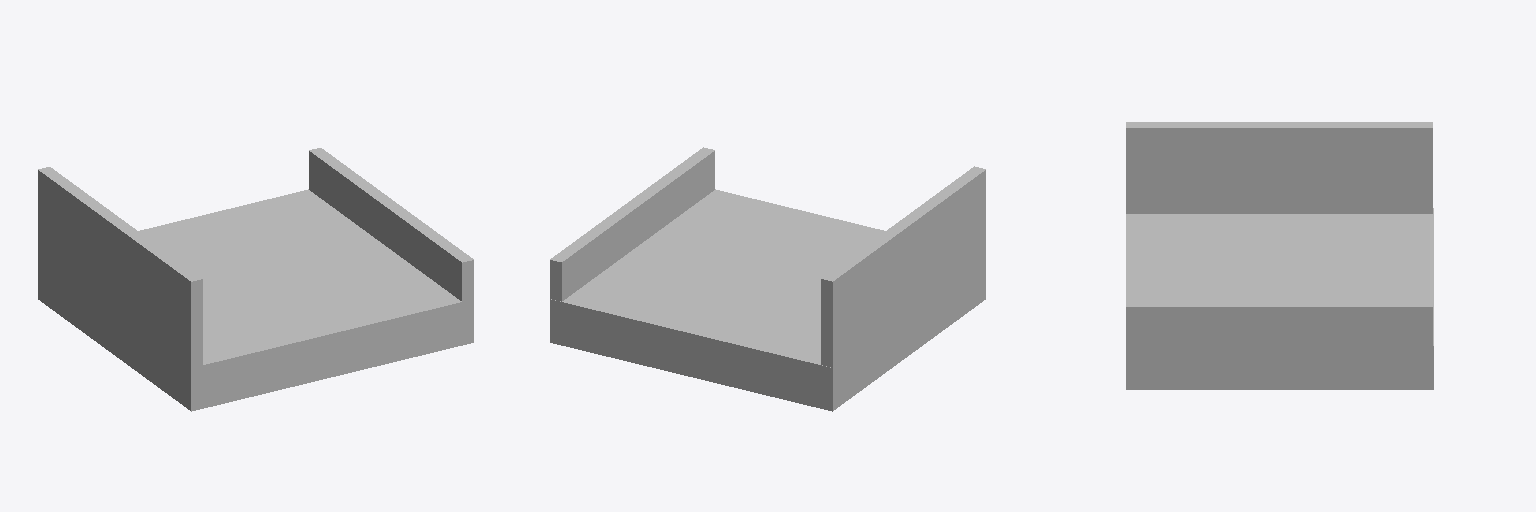
File: Double Bed LOD1.obj
3 views of the same model, side by side, from view 1: azimuth 30°, elevation 25°; view 2: azimuth 150°, elevation 25°; view 3: azimuth 270°, elevation 25° (orthographic).
Visible parts, largest first — view 1: Base.001_Cube.033, Back_Board.003_Cube.034, Front_Board.003_Cube.032; view 2: Base.001_Cube.033, Back_Board.003_Cube.034, Front_Board.003_Cube.032; view 3: Base.001_Cube.033, Back_Board.003_Cube.034, Front_Board.003_Cube.032.
Boxes of the visible parts, x1,y1,x2,y2 form: Base.001_Cube.033: [38, 189, 473, 411]; Back_Board.003_Cube.034: [38, 167, 202, 368]; Front_Board.003_Cube.032: [309, 148, 473, 301]; Base.001_Cube.033: [550, 189, 985, 411]; Back_Board.003_Cube.034: [821, 166, 985, 367]; Front_Board.003_Cube.032: [550, 147, 714, 301]; Base.001_Cube.033: [1126, 208, 1433, 389]; Back_Board.003_Cube.034: [1126, 122, 1432, 213]; Front_Board.003_Cube.032: [1126, 301, 1432, 346].
Size of the model in its own units: 13.6 by 5.96 by 12.8.